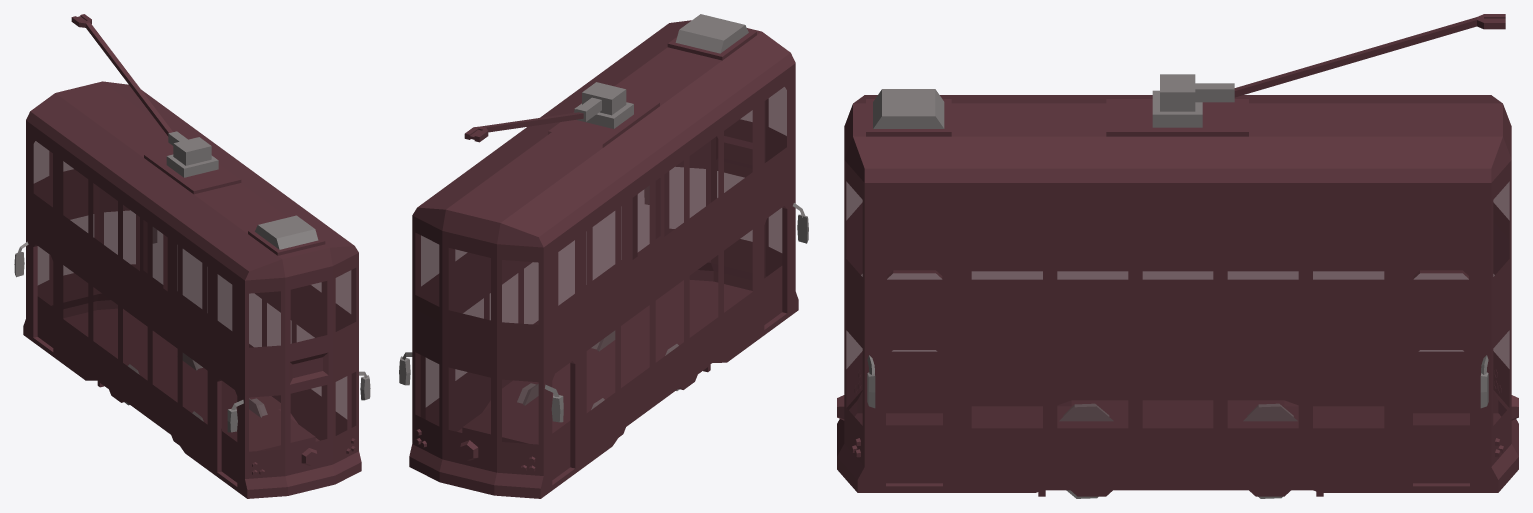
The model's file is tram-china.fbx.
3 views of the same model, side by side, from view 1: azimuth 30°, elevation 25°; view 2: azimuth 150°, elevation 25°; view 3: azimuth 270°, elevation 25° (orthographic). The views are drawn at different scales.
Visible parts, largest first — view 1: tram-china-base; view 2: tram-china-base; view 3: tram-china-base, tram-china-wheel_F, tram-china-wheel_B.
Part boxes in pixels (x1,y1,x2,y2): tram-china-base: [14, 14, 370, 498]; tram-china-base: [399, 14, 808, 498]; tram-china-base: [837, 14, 1518, 496]; tram-china-wheel_F: [1059, 403, 1113, 498]; tram-china-wheel_B: [1243, 403, 1297, 498].
Size of the model in its own units: 3.28 by 7.11 by 9.56.
